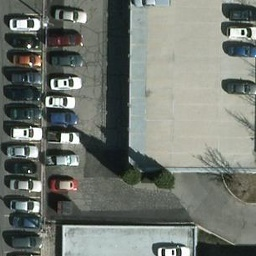car: (7, 16, 41, 32), (54, 7, 88, 23), (8, 34, 42, 50), (49, 30, 83, 46), (48, 50, 82, 66), (48, 74, 82, 90), (43, 91, 77, 107), (45, 110, 79, 126), (45, 130, 79, 146), (44, 149, 78, 165), (44, 175, 78, 191), (8, 214, 42, 230), (9, 234, 43, 250), (6, 197, 40, 213), (7, 176, 41, 192), (2, 158, 36, 174), (5, 141, 39, 157), (7, 124, 41, 140), (7, 104, 41, 120), (4, 85, 38, 101), (7, 69, 41, 85), (7, 51, 41, 67), (221, 78, 255, 94), (222, 43, 256, 59), (222, 23, 256, 39), (221, 3, 255, 19), (134, 1, 170, 7)
